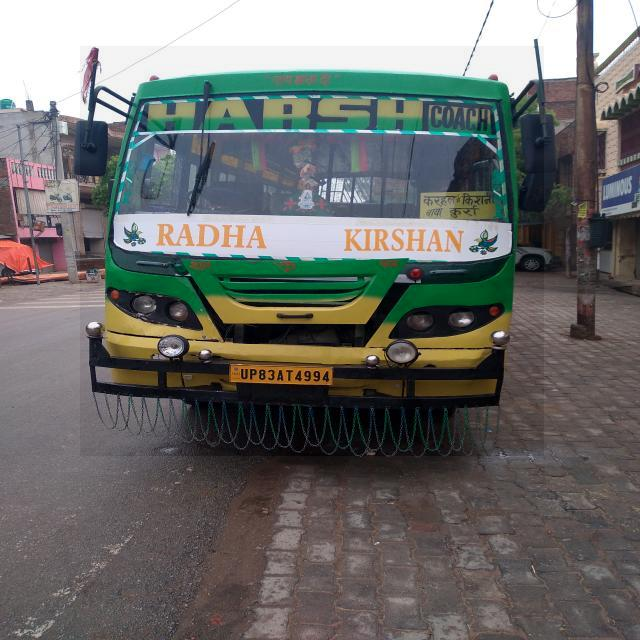Bus: (80, 46, 544, 456)
